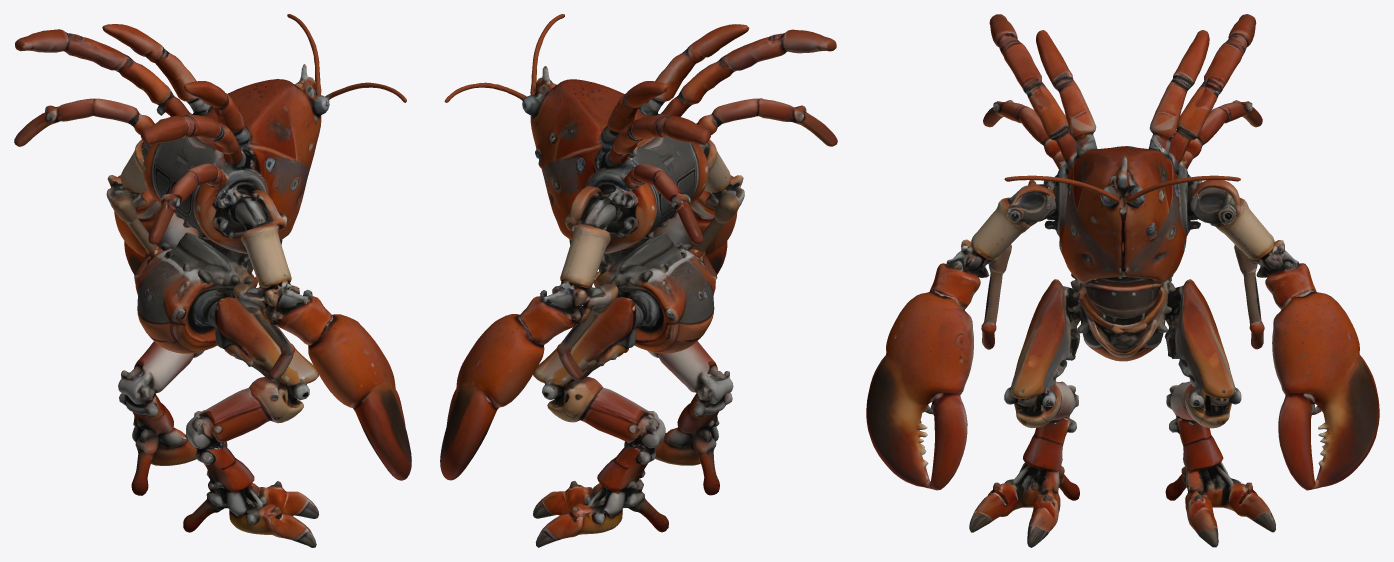
File: lobster.glb
The picture shows the model from 3 angles, left to right: view 1: azimuth 30°, elevation 25°; view 2: azimuth 150°, elevation 25°; view 3: azimuth 270°, elevation 25°; orthographic projection.
Visible parts, largest first — view 1: tripo_node_8217be4b-b629-4568-97a6-33c788fc9ace; view 2: tripo_node_8217be4b-b629-4568-97a6-33c788fc9ace; view 3: tripo_node_8217be4b-b629-4568-97a6-33c788fc9ace.
Part boxes in pixels (bbox=[...]): tripo_node_8217be4b-b629-4568-97a6-33c788fc9ace: bbox=[14, 14, 411, 547]; tripo_node_8217be4b-b629-4568-97a6-33c788fc9ace: bbox=[440, 14, 837, 547]; tripo_node_8217be4b-b629-4568-97a6-33c788fc9ace: bbox=[866, 14, 1379, 547].
Size of the model in its own units: 0.5726 by 0.9417 by 0.9495.
Materials: 1 (1 with a texture image).
